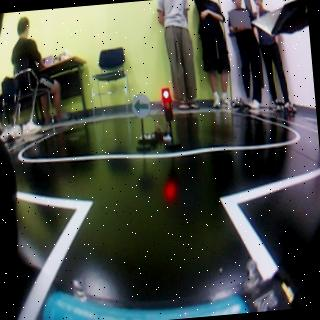left: (132, 95, 150, 118)
red: (162, 89, 173, 125)
